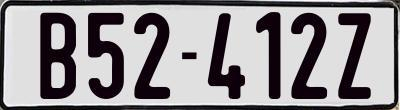1: (256, 12, 281, 103)
2: (291, 10, 331, 101), (134, 10, 174, 96)
4: (208, 13, 245, 104)
5: (85, 12, 123, 101)
B: (37, 11, 75, 100)
Z: (335, 13, 368, 102)
